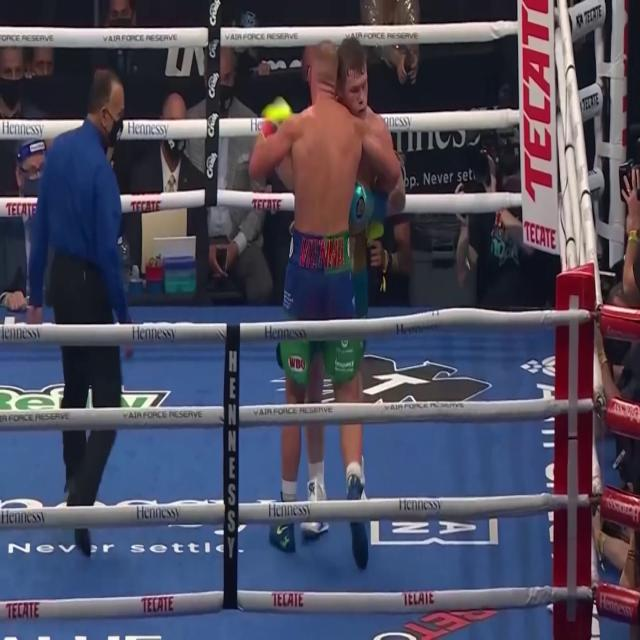boxer_1: (292, 40, 364, 236)
boxer_2: (324, 37, 384, 227)
gloves_1: (258, 96, 292, 139), (367, 213, 384, 241)
gloves_2: (348, 186, 386, 234)
